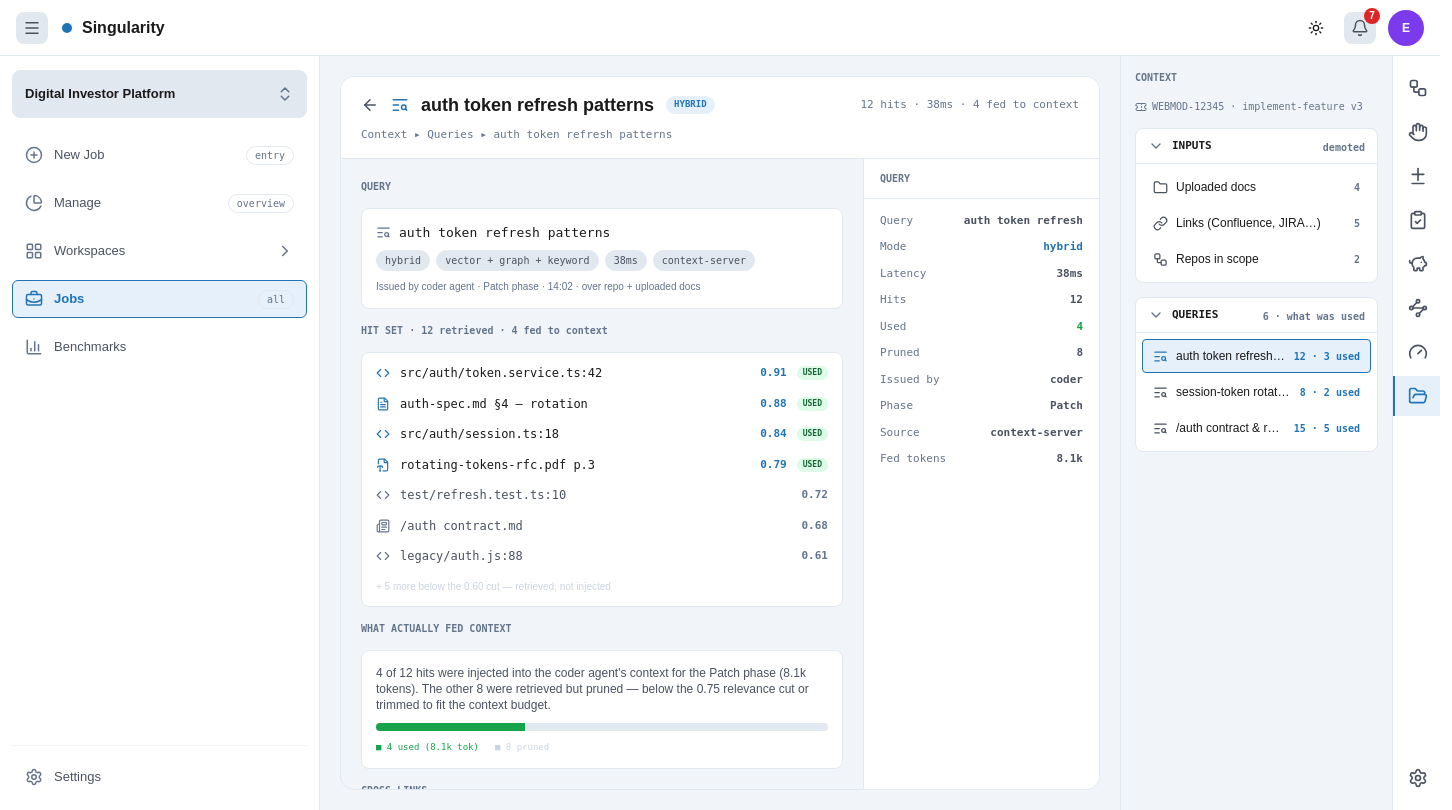
Test: Context section › selecting an input swaps to its minimal detail
Check: the heading "auth token refresh patterns" is shown, box [421, 91, 654, 119]
Click the button "Uploaded docs 4". click: (1256, 187)
box: [1142, 170, 1371, 204]
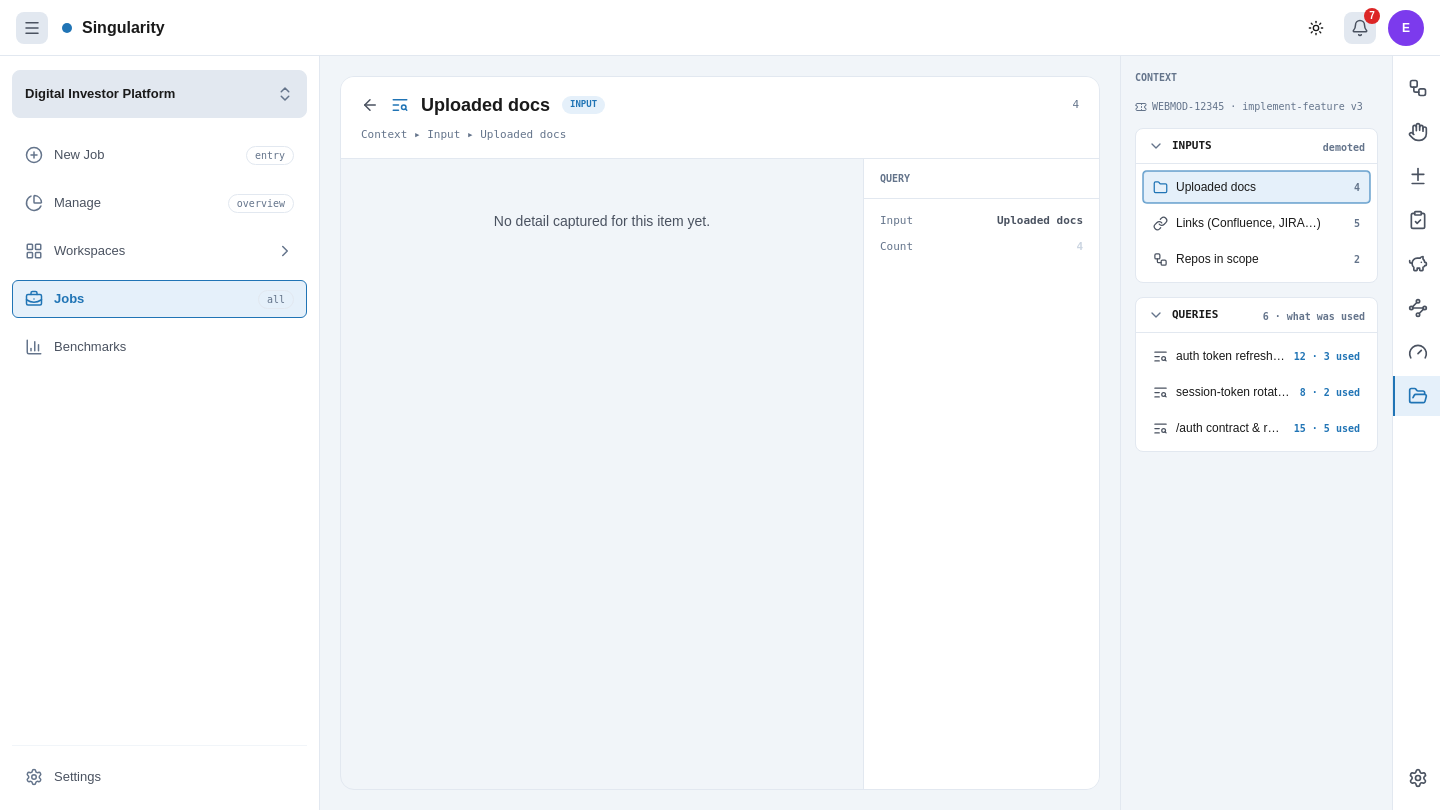
Check: the heading "Uploaded docs" is shown, box [421, 91, 550, 119]
Check: the text "No detail captured for this item yet." is shown, box [494, 212, 710, 228]
